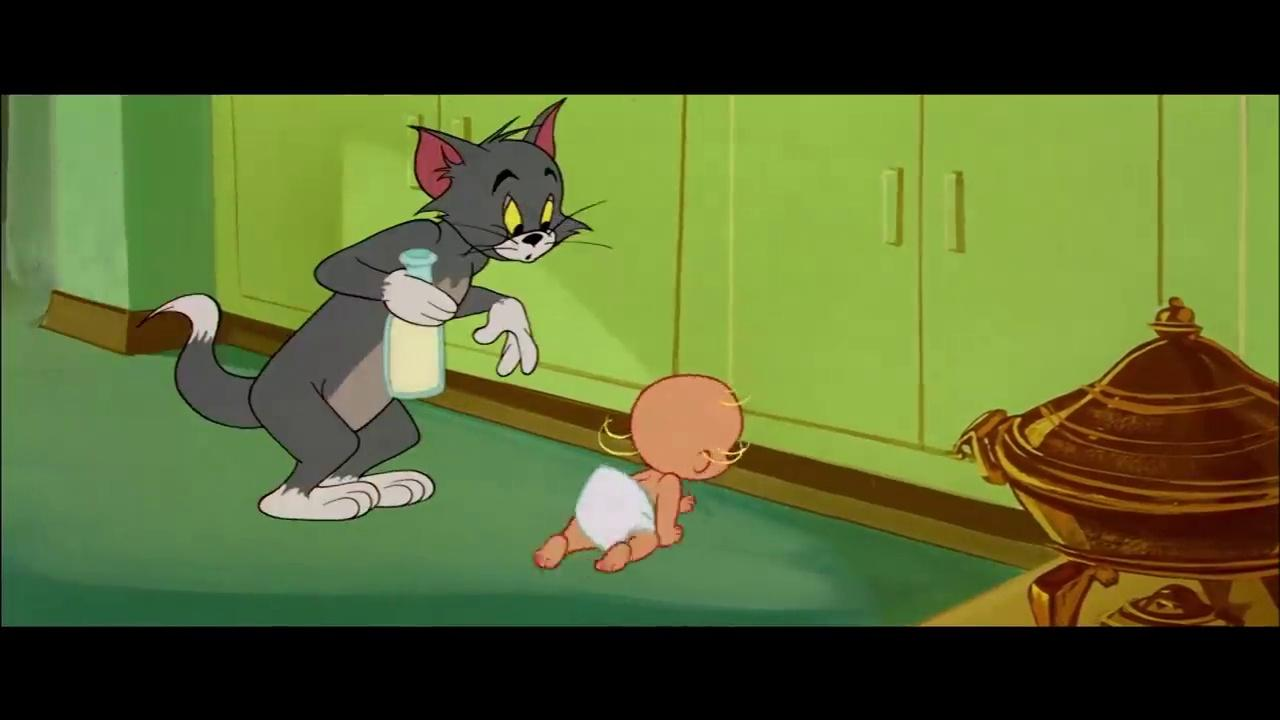Tom: (133, 95, 596, 522)
